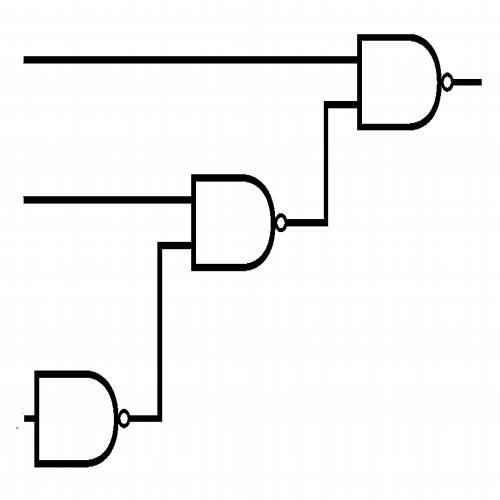nand: (181, 160, 291, 282), (349, 26, 459, 140), (30, 362, 136, 476)
